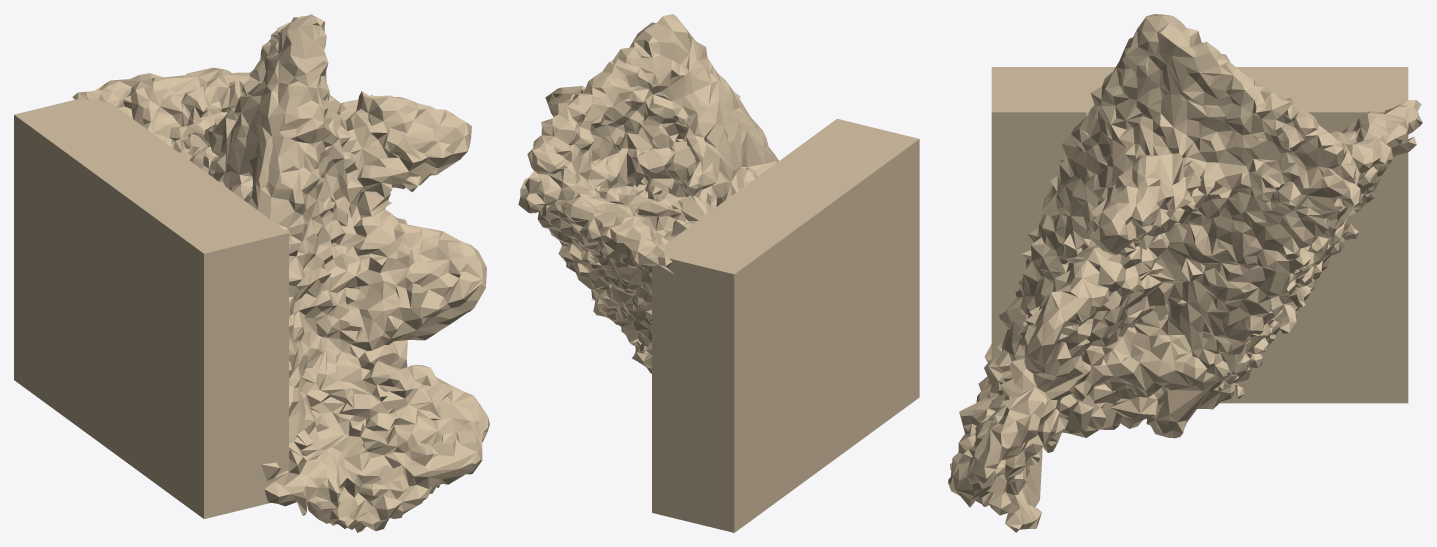
File: improved.glb
3 views of the same model, side by side, from view 1: azimuth 30°, elevation 25°; view 2: azimuth 150°, elevation 25°; view 3: azimuth 270°, elevation 25° (orthographic). The views are drawn at different scales.
Visible parts, largest first — view 1: world; view 2: world; view 3: world.
Boxes of the visible parts, <box> form: world: <box>14,14,489,532</box>; world: <box>518,14,919,532</box>; world: <box>948,14,1422,532</box>.
Bounding box in the file's own units: 0.85 × 1.17 × 0.978.
